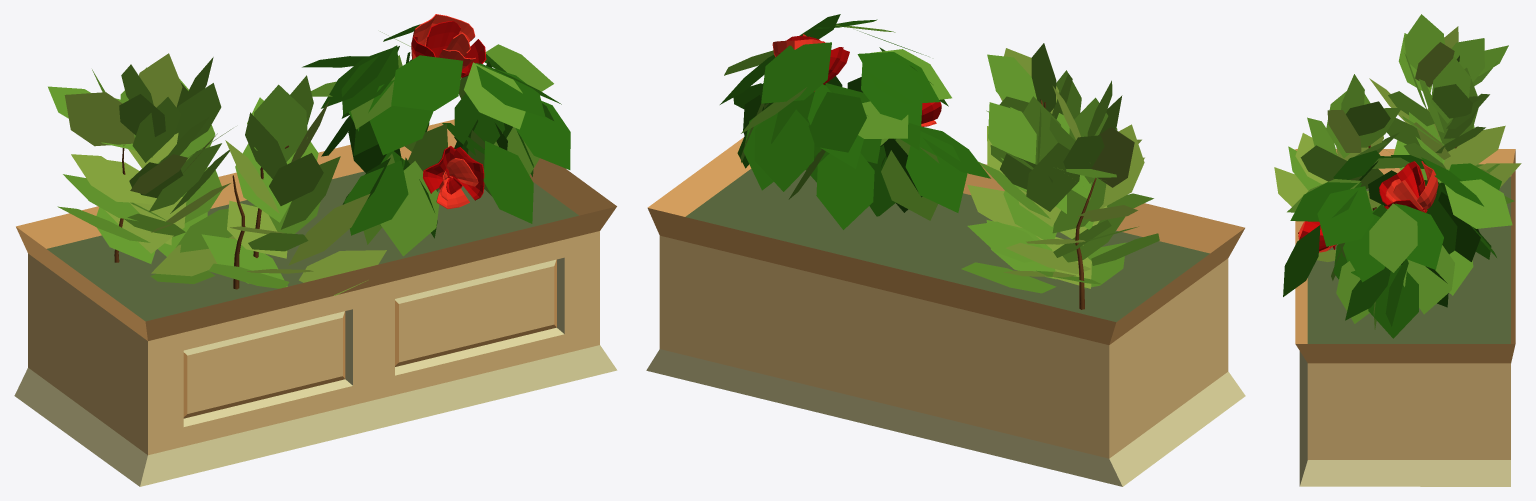
Rendered from WindowBox_Wood_Variety1.fbx.
3 renders of one model, left to right at view 1: azimuth 30°, elevation 25°; view 2: azimuth 150°, elevation 25°; view 3: azimuth 270°, elevation 25°, orthographic. The views are drawn at different scales.
Parts seen in each view (by area): view 1: BezierCurve; view 2: BezierCurve; view 3: BezierCurve.
Part boxes in pixels (box(x1,y1,x2,y2)): BezierCurve: box(14, 14, 617, 486); BezierCurve: box(646, 14, 1245, 486); BezierCurve: box(1274, 14, 1521, 486).
Bounding box in the file's own units: 1.4 × 0.9922 × 0.7392.
